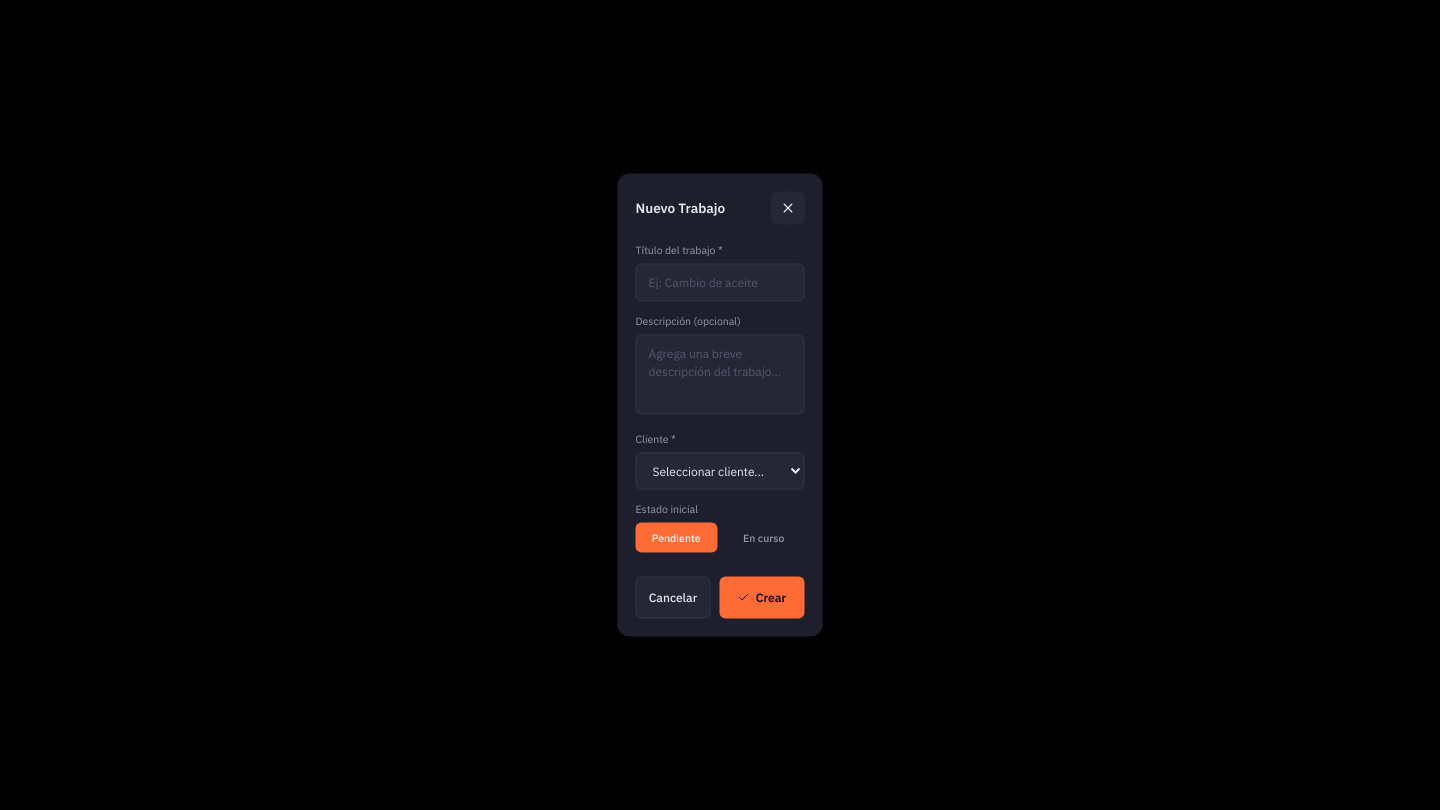
Scenario: TrabajoForm (caracterización) › crear: si falla el anticipo muestra error y no crea el trabajo
Type "Cambio de aceite" into the field with placeholder "Ej: Cambio de aceite" at (720, 282), box [636, 264, 804, 302]
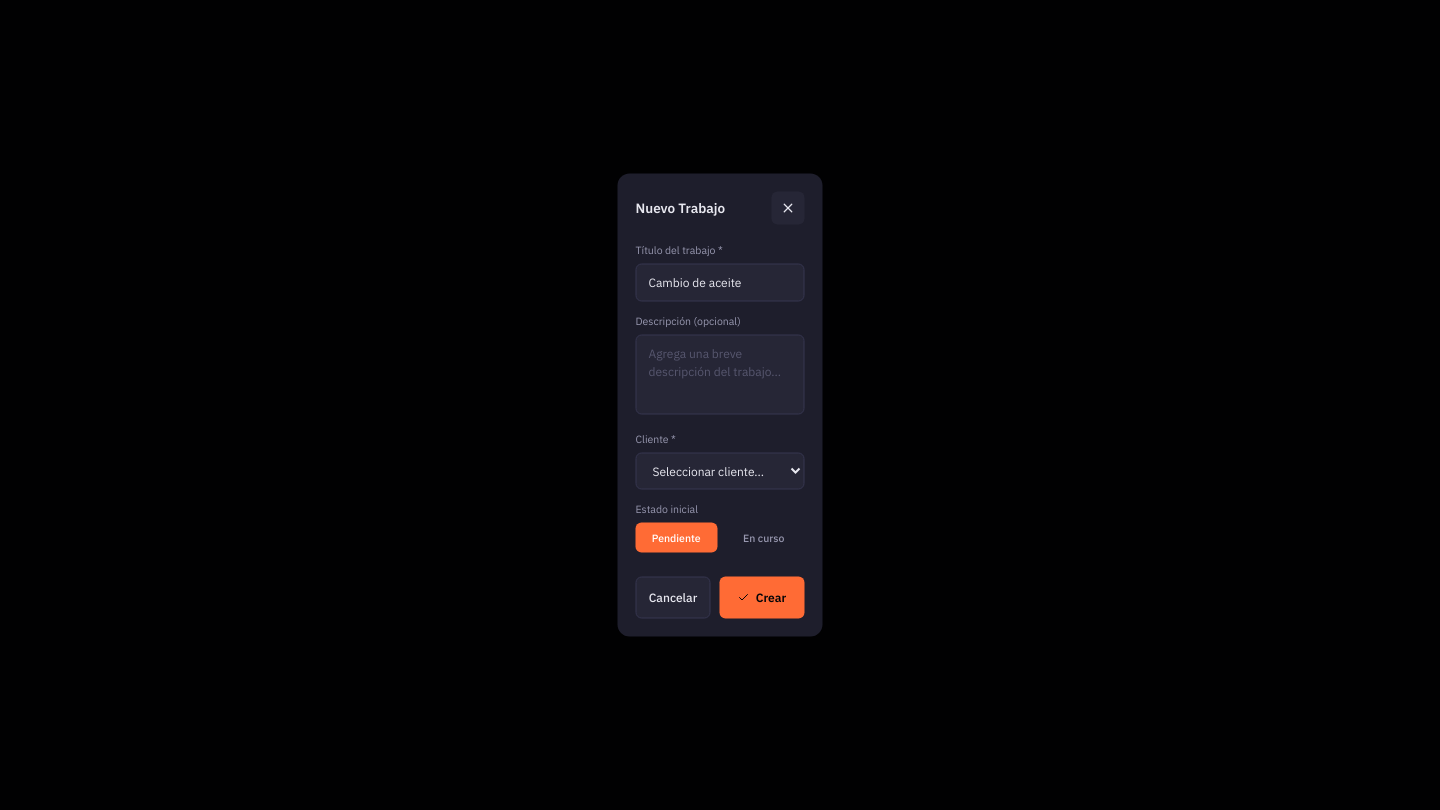
Select "Cliente A" in the dropdown at (720, 471), box [636, 452, 804, 490]
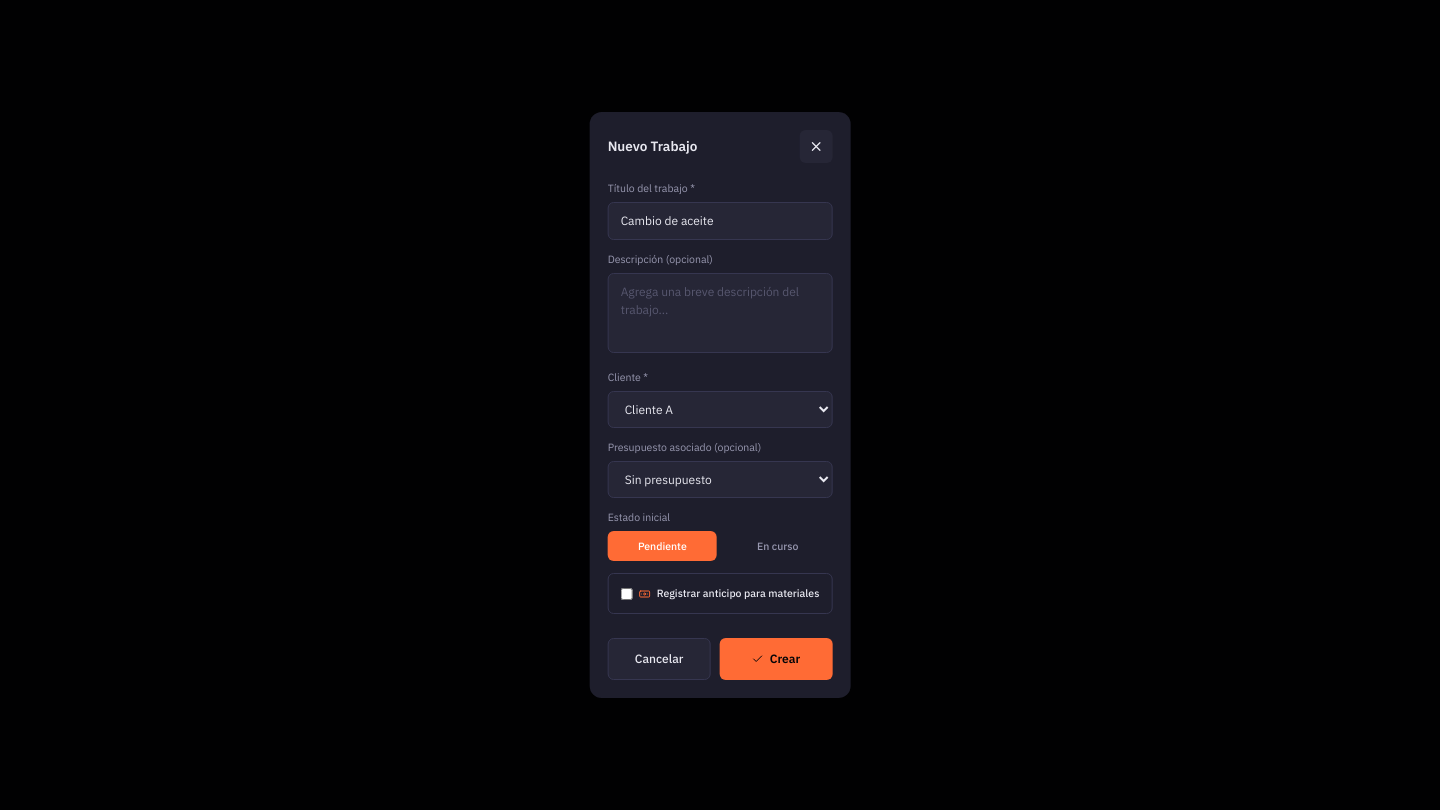
Click the checkbox labelled "Registrar anticipo para materiales" at (627, 594), box [621, 588, 633, 600]
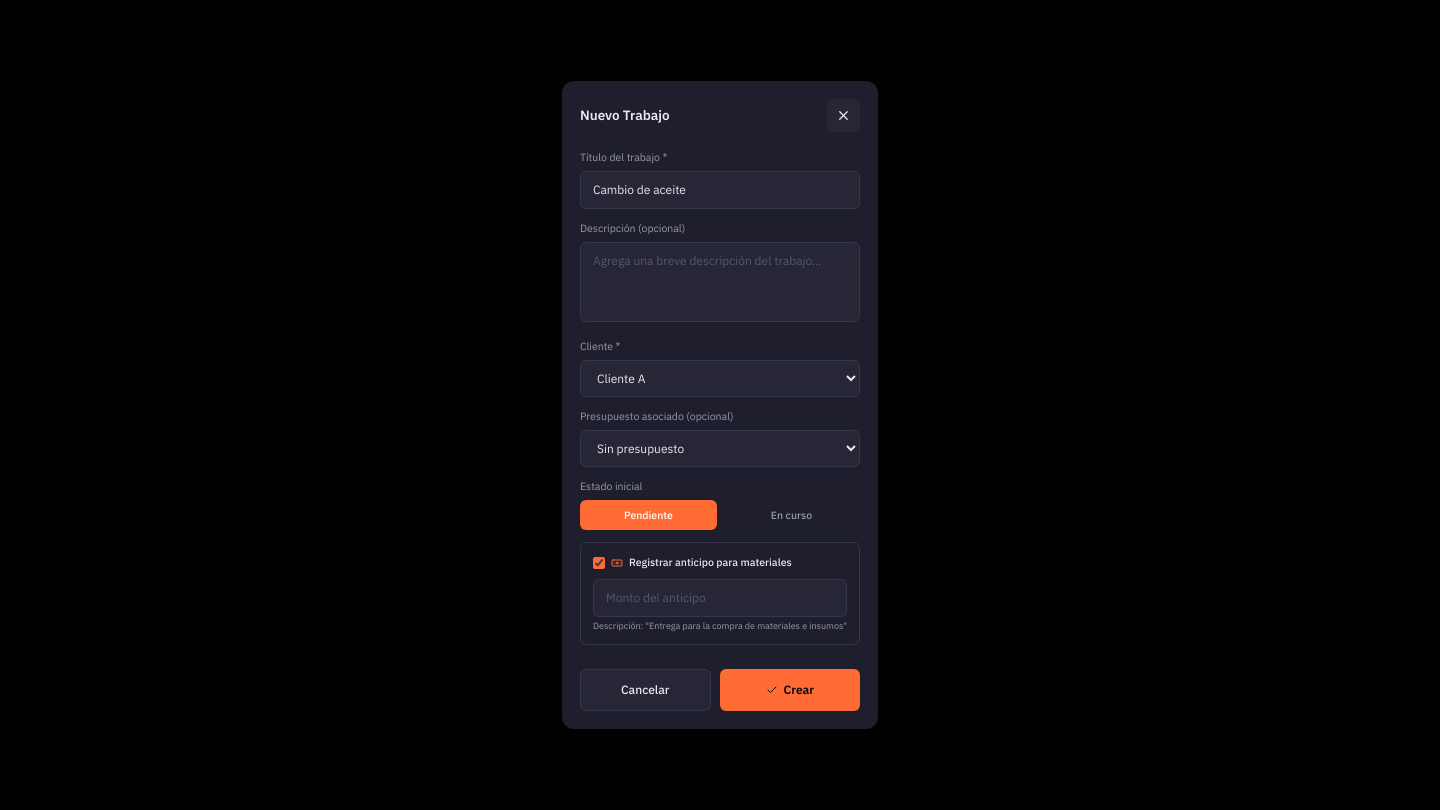
Type "5000" into the number field with placeholder "Monto del anticipo" at (720, 598), box [593, 579, 847, 617]
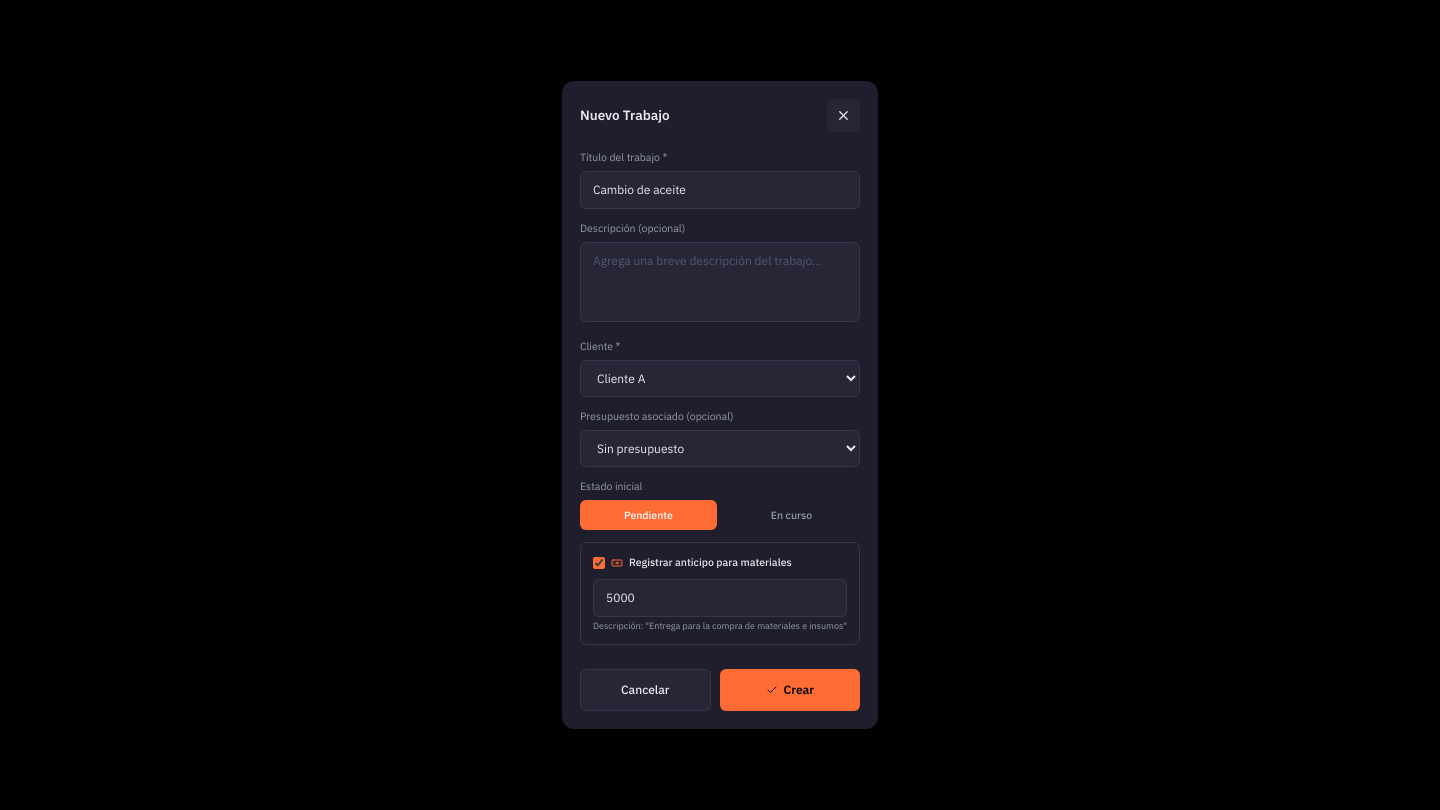
Click the button "Crear" at (790, 690), box [720, 669, 860, 711]
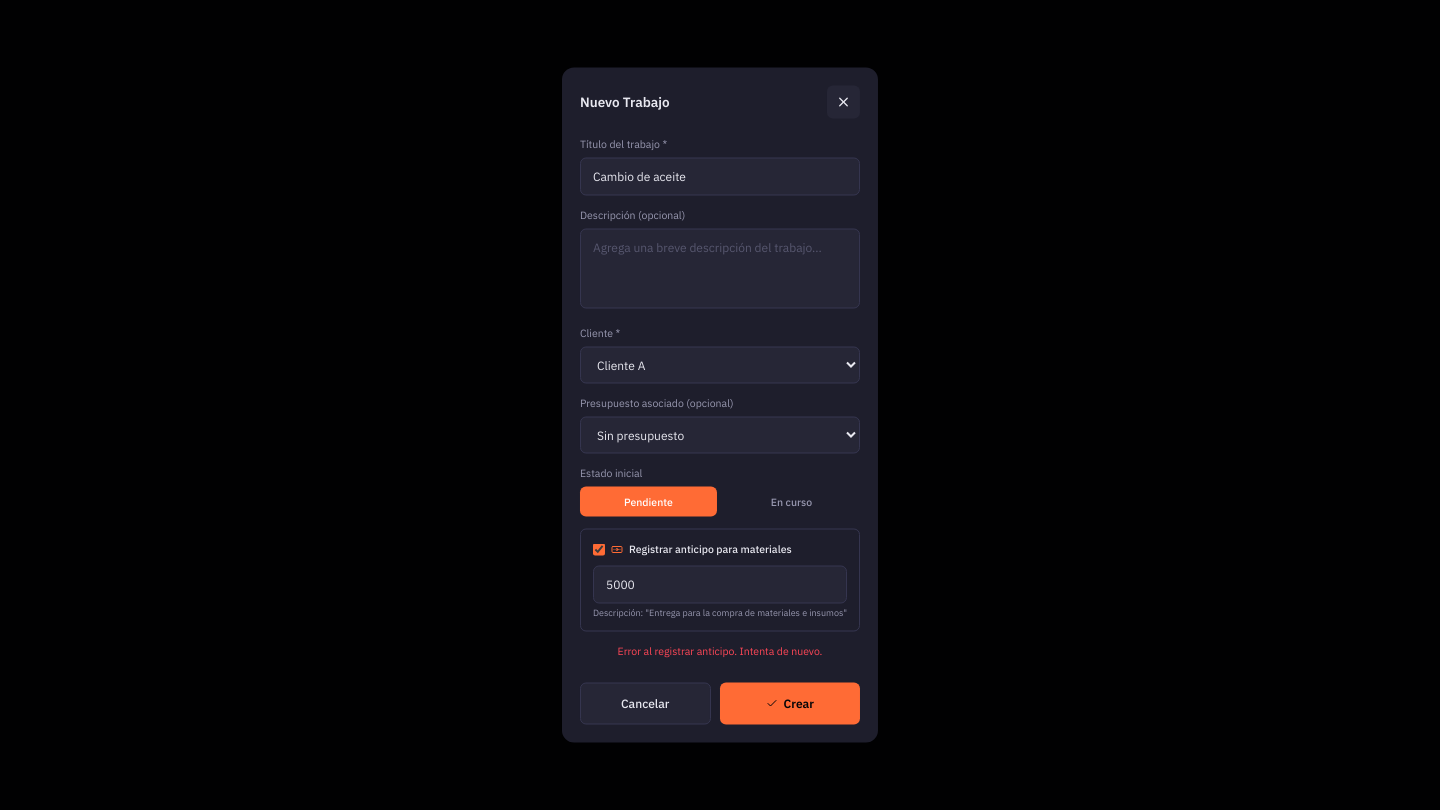
Check: the text "Error al registrar anticipo. Intenta de nuevo." is shown, box [618, 644, 822, 658]
